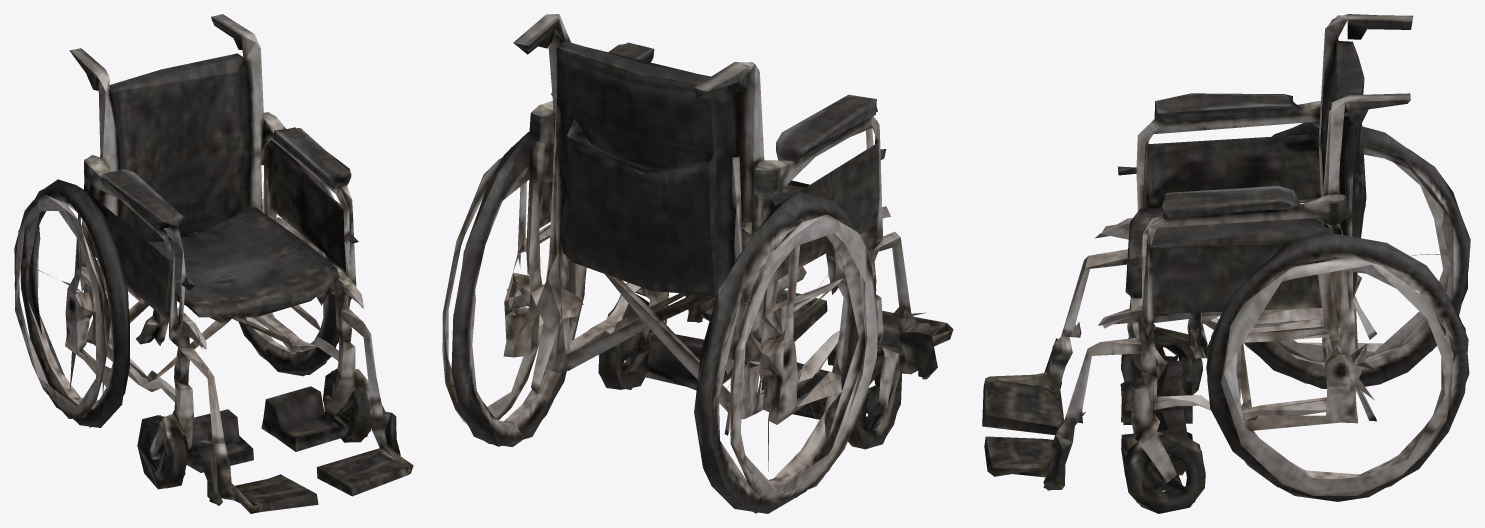
The model's file is p7-wheelchair.glb.
3 views of the same model, side by side, from view 1: azimuth 30°, elevation 25°; view 2: azimuth 150°, elevation 25°; view 3: azimuth 270°, elevation 25° (orthographic). The views are drawn at different scales.
Parts seen in each view (by area): view 1: p7-wheelchair; view 2: p7-wheelchair; view 3: p7-wheelchair.
Part boxes in pixels (x1,y1,x2,y2): p7-wheelchair: (14,14,413,513); p7-wheelchair: (442,14,953,513); p7-wheelchair: (982,14,1470,513).
Size of the model in its own units: 0.716 by 0.95 by 1.05.
1 material, 1 textured.
